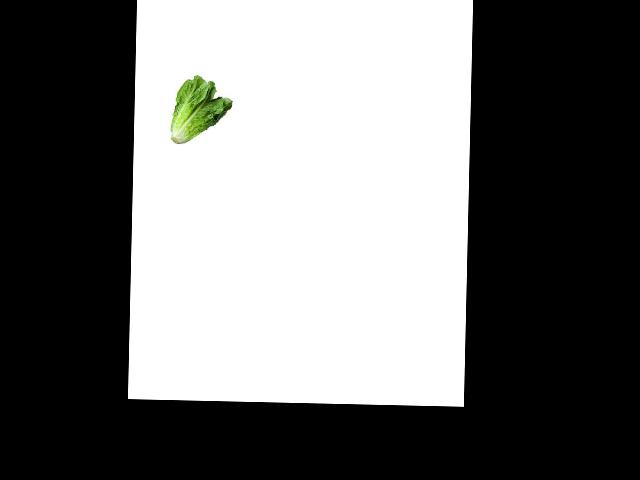lettuce: (166, 75, 236, 143)
